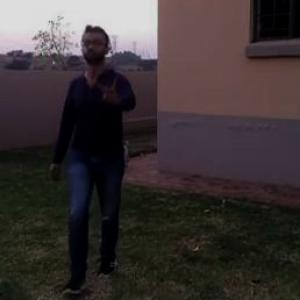takeoff-hand: (97, 76, 126, 110)
